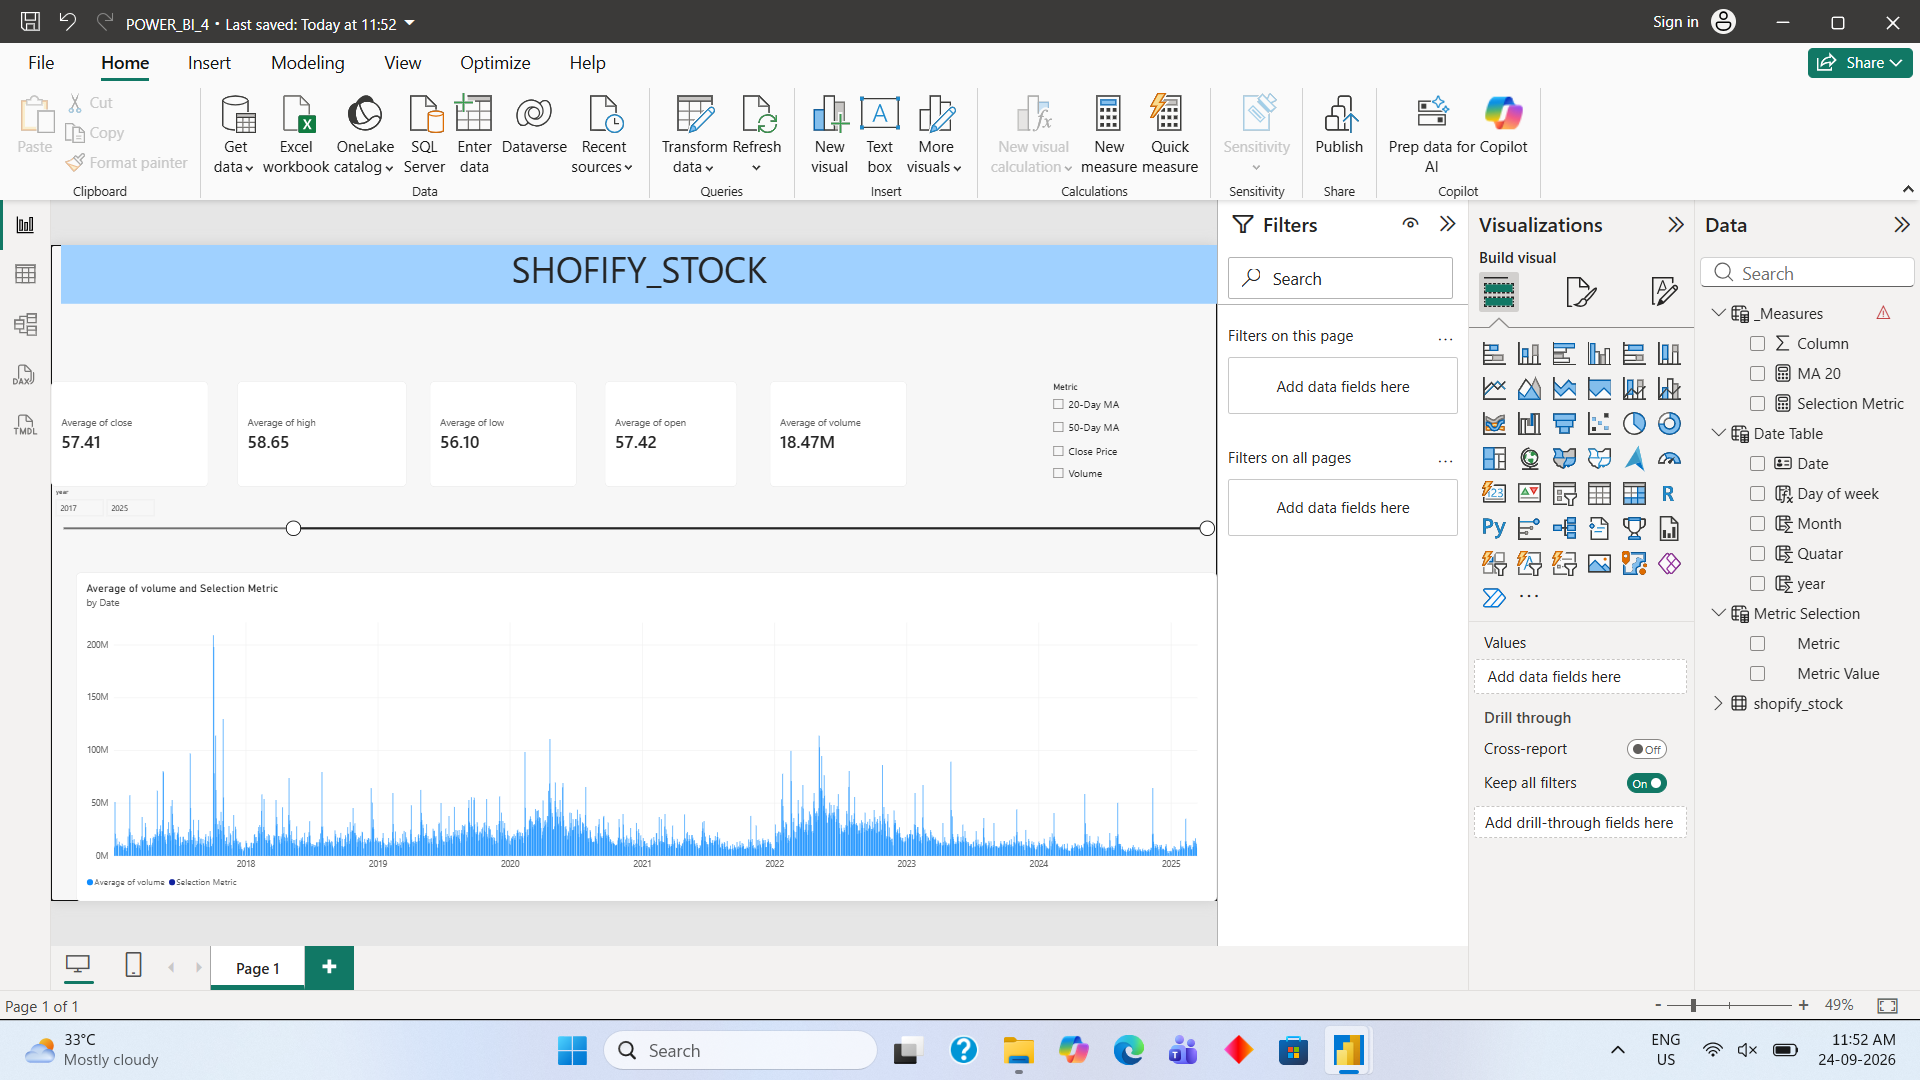

This screenshot's page, from the dashboard's own definition file:
{"tool":"powerbi","page":{"name":"Page 1","canvas":[1920,1080],"ordinal":0},"visuals":[{"type":"cardVisual","fields":{"Data":["Avg(shopify_stock.close)"]},"box":[0,224.4,259.3,175],"z":0},{"type":"cardVisual","fields":{"Data":["Avg(shopify_stock.high)"]},"box":[306.7,224.4,279.9,175],"z":1},{"type":"cardVisual","fields":{"Data":["Avg(shopify_stock.low)"]},"box":[623.7,224.4,242.9,175],"z":2},{"type":"cardVisual","fields":{"Data":["Avg(shopify_stock.open)"]},"box":[911.8,224.4,218.2,175],"z":3},{"type":"cardVisual","fields":{"Data":["Avg(shopify_stock.volume)"]},"box":[1183.5,224.4,226.4,175],"z":4},{"type":"lineClusteredColumnComboChart","fields":{"Category":["Date Table.Date"],"Y":["Avg(shopify_stock.volume)"],"Y2":["_Measures.Selection Metric"]},"box":[41.2,539.3,1879.3,541.3],"z":5},{"type":"slicer","fields":{"Values":["Date Table.year"]},"box":[0,399.3,1920.4,121.4],"z":6},{"type":"slicer","fields":{"Values":["Metric Selection.Metric "]},"box":[1642.5,224.4,222.3,191.4],"z":7},{"type":"textbox","box":[16.5,0,1904,96.7],"z":8}]}

Visuals, with their boxes on the page's 1920x1080 design canvas (x1, y1, x2, y2). These are canvas units, not pixel positions in the 1920x1080 screenshot, which may show the page scaled, cropped or inside an application window:
cardVisual - Avg(shopify_stock.close): {"x1": 0, "y1": 224, "x2": 259, "y2": 399}
cardVisual - Avg(shopify_stock.high): {"x1": 307, "y1": 224, "x2": 587, "y2": 399}
cardVisual - Avg(shopify_stock.low): {"x1": 624, "y1": 224, "x2": 867, "y2": 399}
cardVisual - Avg(shopify_stock.open): {"x1": 912, "y1": 224, "x2": 1130, "y2": 399}
cardVisual - Avg(shopify_stock.volume): {"x1": 1184, "y1": 224, "x2": 1410, "y2": 399}
lineClusteredColumnComboChart - Date Table.Date x Avg(shopify_stock.volume): {"x1": 41, "y1": 539, "x2": 1920, "y2": 1081}
slicer - Date Table.year: {"x1": 0, "y1": 399, "x2": 1920, "y2": 521}
slicer - Metric Selection.Metric : {"x1": 1642, "y1": 224, "x2": 1865, "y2": 416}
textbox: {"x1": 16, "y1": 0, "x2": 1920, "y2": 97}
